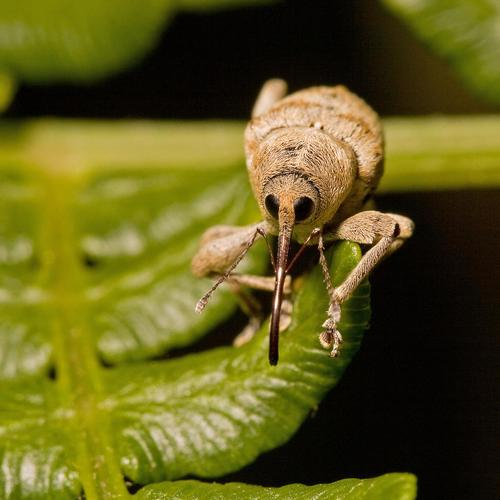Curculionidae: (190, 77, 416, 367)
